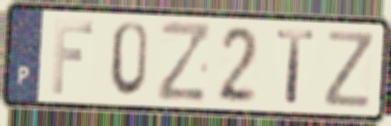0: (106, 20, 150, 101)
2: (215, 23, 261, 105)
F: (49, 17, 95, 96)
T: (274, 28, 317, 107)
Z: (155, 18, 213, 104), (321, 27, 378, 110)
